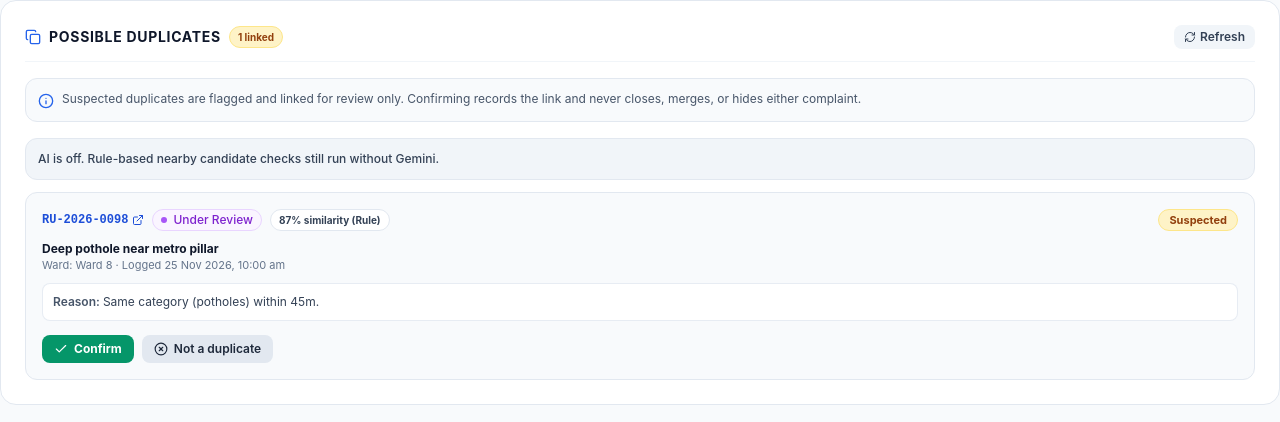
Test: Phase 9.4 Duplicate Detection Admin UI › shows AI is off state and Confirm / Not a duplicate actions for suspected links
The width and height of the screenshot is (1280, 422).
Expected: the link "RU-2026-0098" is shown, x1=42 y1=212 x2=144 y2=228
Expected: the text "AI is off. Rule-based nearby candidate checks still run without Gemini." is shown, x1=25 y1=138 x2=1255 y2=180
Click the button "Confirm" at (88, 349), box x1=42 y1=335 x2=134 y2=363
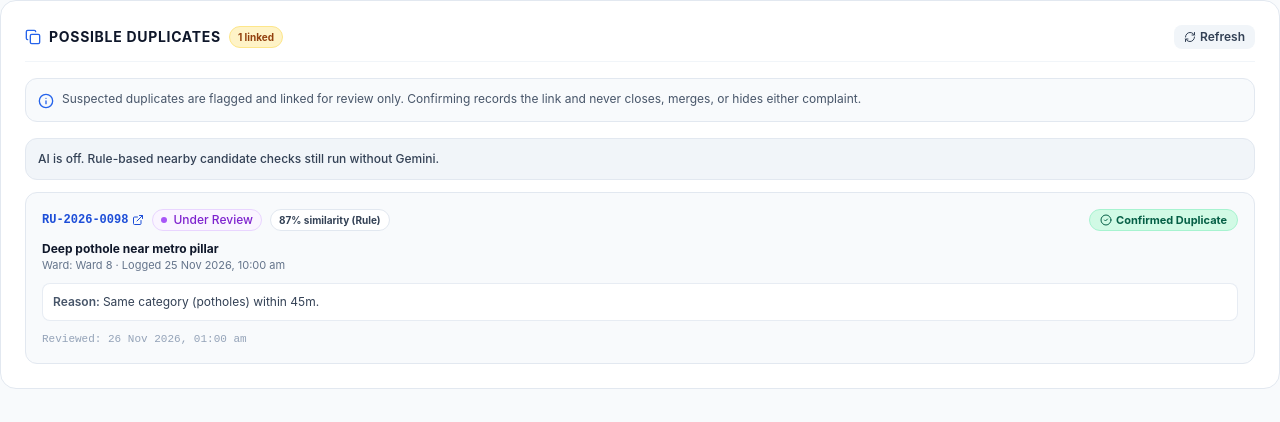
Now the text "Confirmed Duplicate" is shown, box x1=1089 y1=209 x2=1238 y2=231
